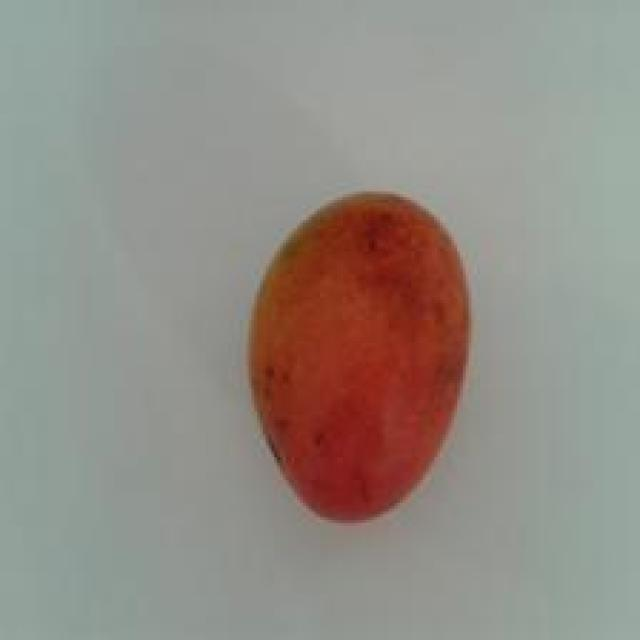mango: (246, 188, 471, 523)
